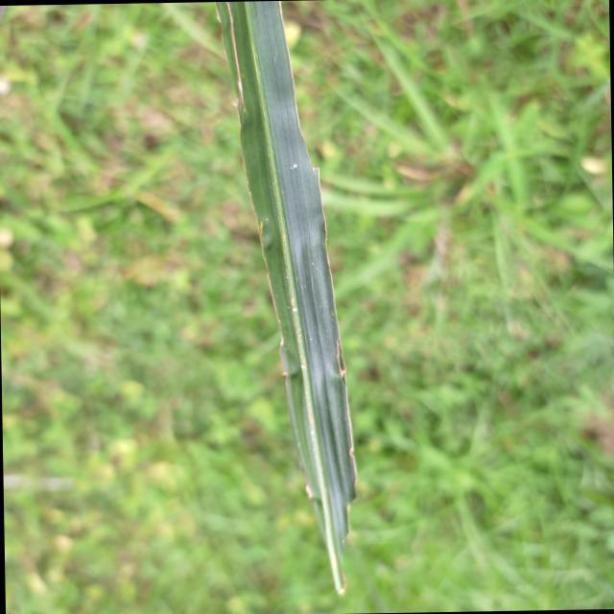Boron: (220, 0, 361, 604)
